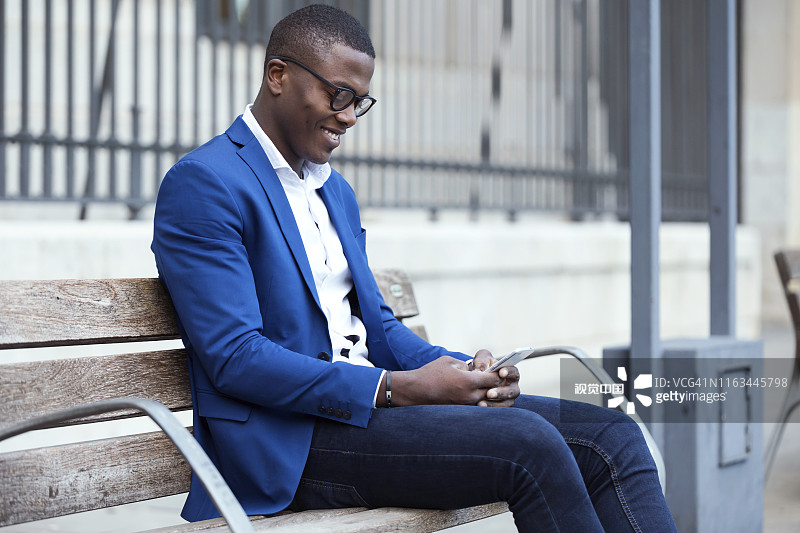reading: (385, 333, 545, 416)
